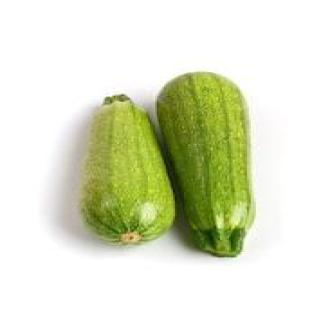Zucchini: (157, 72, 254, 255), (82, 95, 174, 243)
